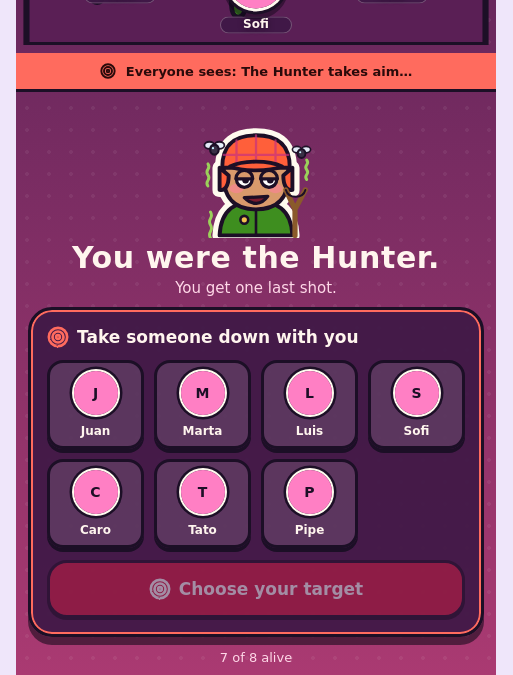
Test: Hunter revenge › shows a rejected shot
(page scrolled)
Click the button "J Juan": (96, 405) [47,360,144,449]
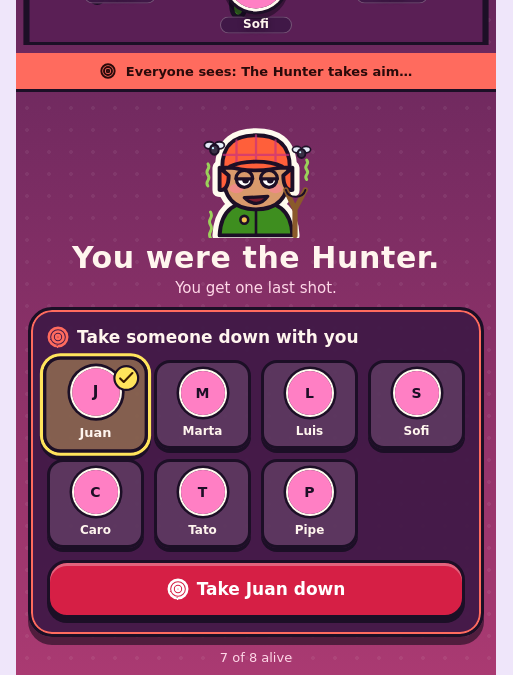
Click the button with class "btn-danger": (256, 589) [47,560,465,618]
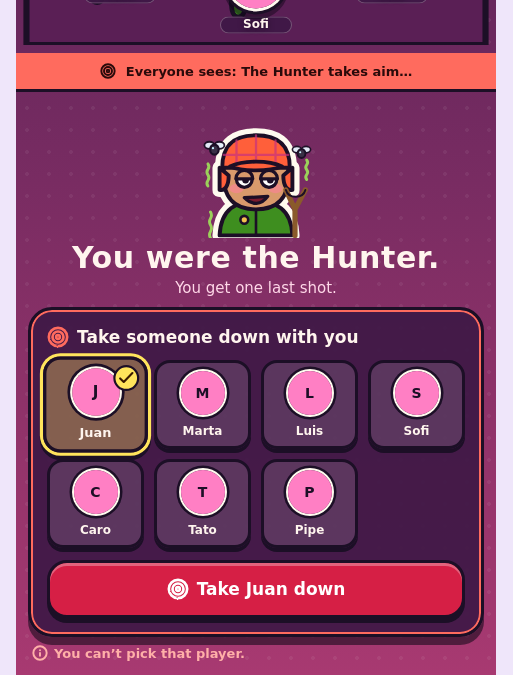
Expected: the message with class "err" reads "You can’t pick that player.", [54,646,245,661]
